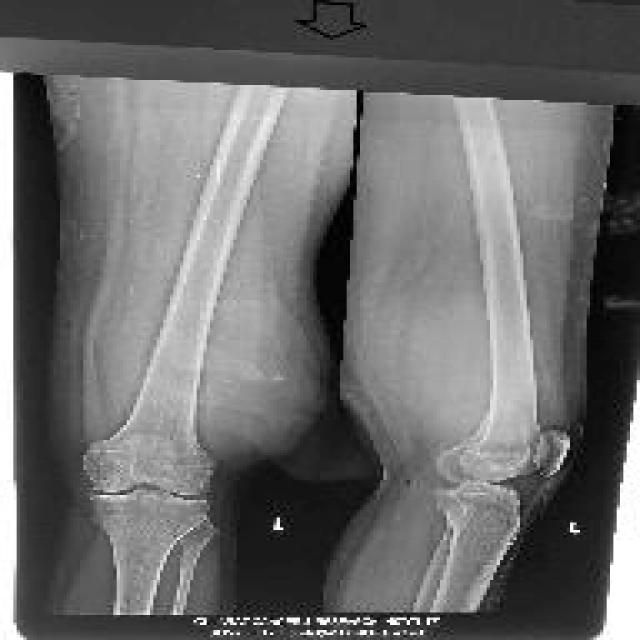bone-cancer: (198, 230, 328, 467)
